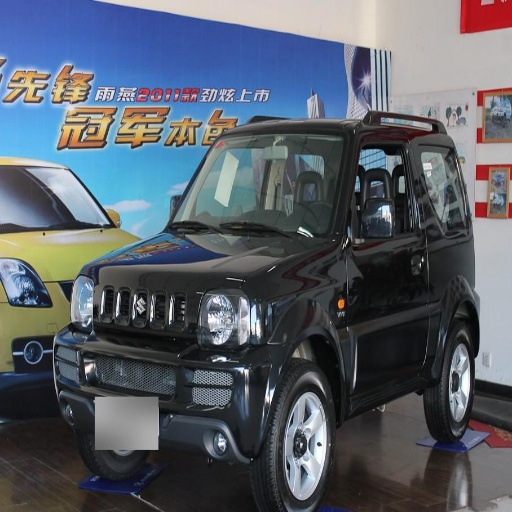front_bumper: (52, 264, 277, 479), (2, 306, 41, 379)
front_glass: (166, 129, 350, 237), (38, 171, 110, 227)
front_left_door: (347, 160, 421, 390)
